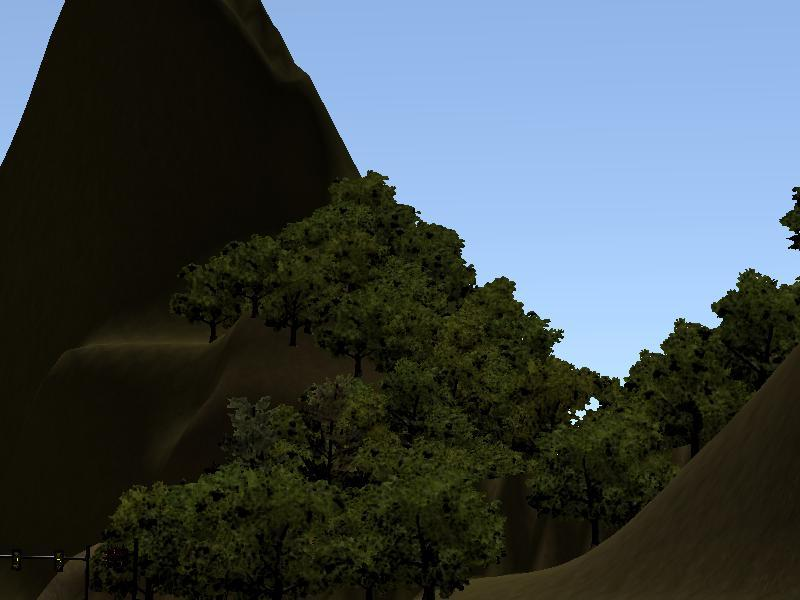Yellow: (11, 548, 22, 570), (54, 549, 64, 573)
